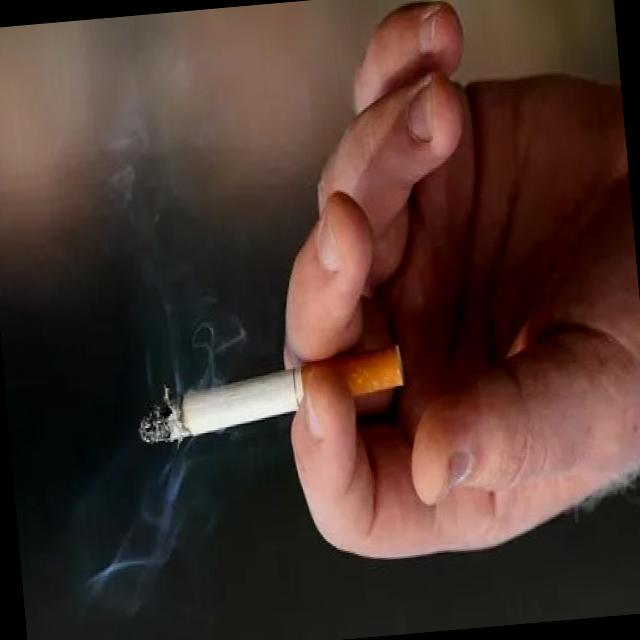cigarette: (128, 334, 412, 448)
